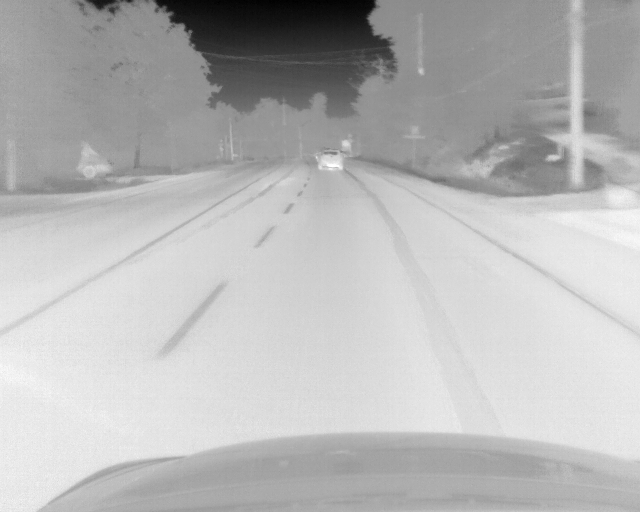car: (317, 149, 343, 172)
